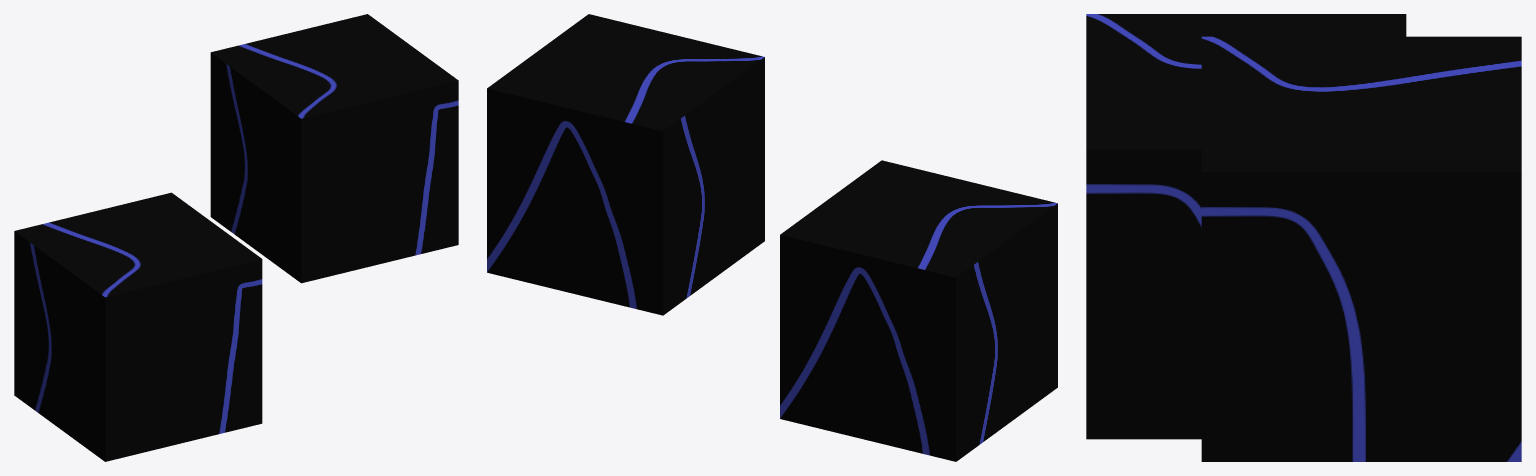
Rendered from twocube.gltf.
The picture shows the model from 3 angles, left to right: view 1: azimuth 30°, elevation 25°; view 2: azimuth 150°, elevation 25°; view 3: azimuth 270°, elevation 25°; orthographic projection. The views are drawn at different scales.
Visible parts, largest first — view 1: Cube, Cube.001; view 2: Cube, Cube.001; view 3: Cube.001, Cube.
Part boxes in pixels (x1,y1,x2,y2): Cube: (14,192,262,461); Cube.001: (210,14,458,283); Cube: (780,160,1057,461); Cube.001: (487,14,764,315); Cube.001: (1201,36,1521,461); Cube: (1086,14,1406,439).
Size of the model in its own units: 4.91 by 3.2 by 2.72.
1 material, 1 textured.
